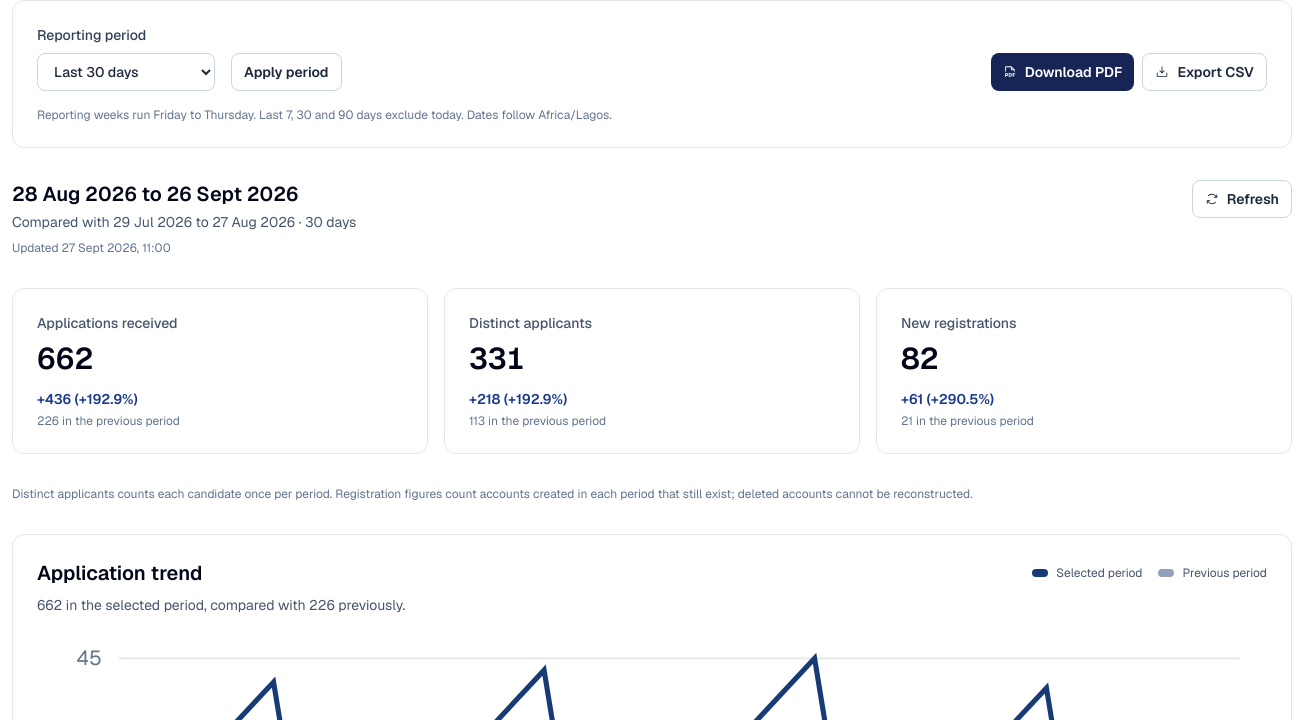
Test case: Super-admin recruitment reporting › requires applying a period before exports and sends the chosen preset
Select "Last 7 days" in the dropdown labelled "Reporting period" at (126, 72), box [37,53,215,91]
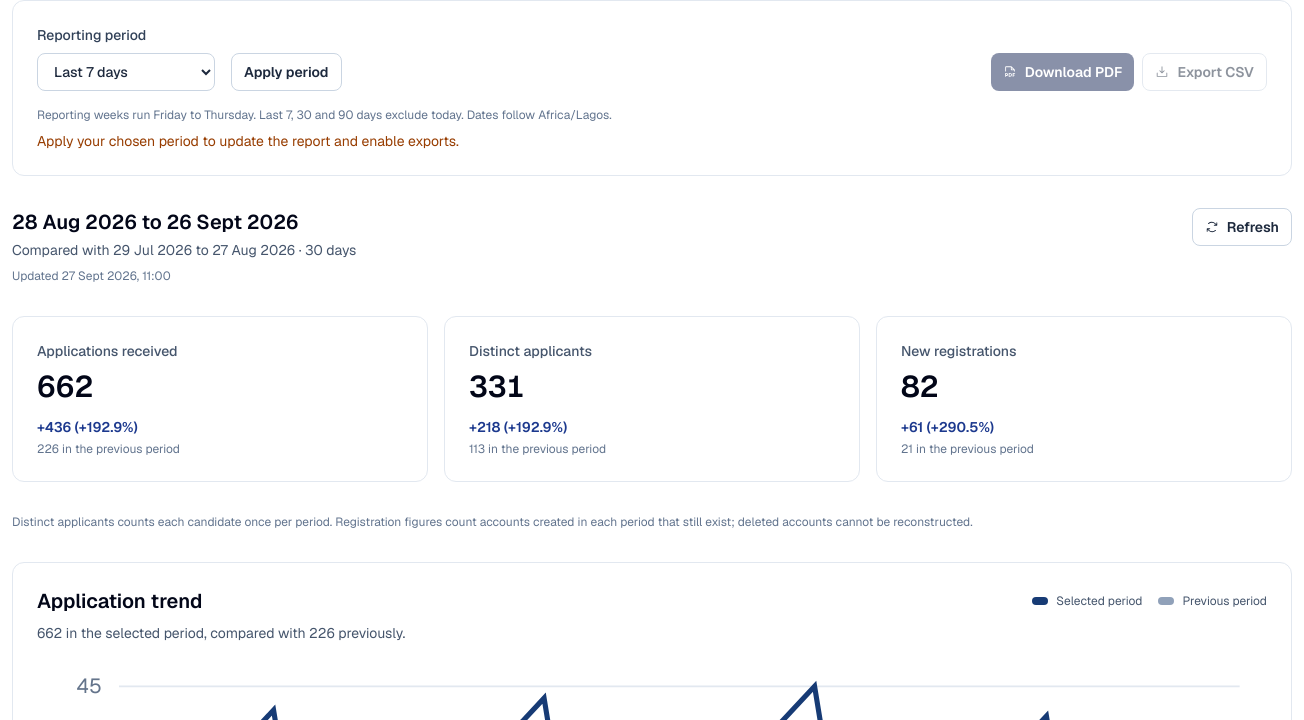
Expected: the button "Download PDF" is disabled, [991,53,1134,91]
Expected: the button "Export CSV" is disabled, [1142,53,1267,91]
Expected: the text "Apply your chosen period to update the report and enable exports." is shown, [37,132,459,150]
Click the button "Apply period" at (286, 72), box [231,53,342,91]
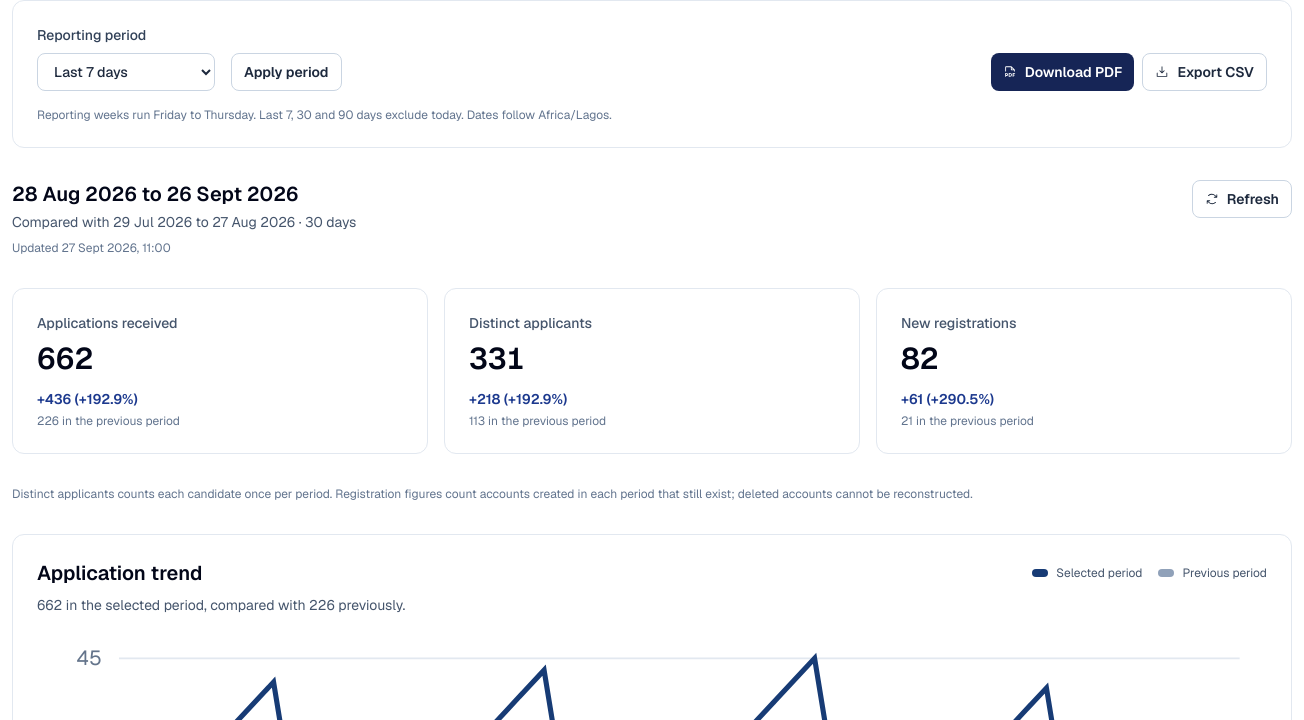
Expected: the button "Download PDF" is enabled, [991,53,1134,91]
